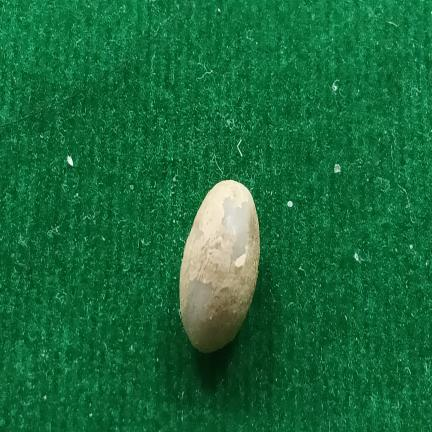good: (179, 180, 260, 353)
